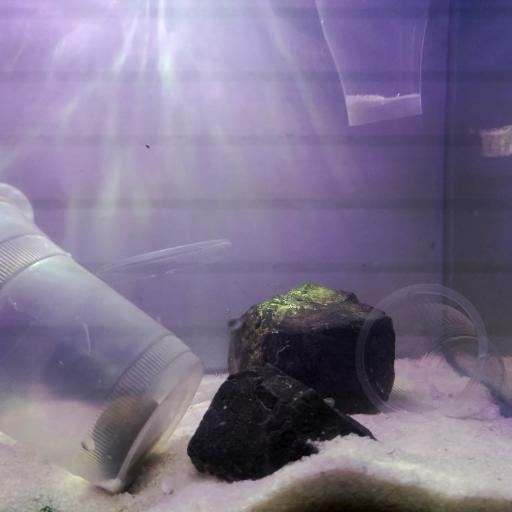plastic_cup: (0, 182, 206, 494), (94, 235, 240, 405), (354, 284, 506, 420), (315, 0, 432, 126)
